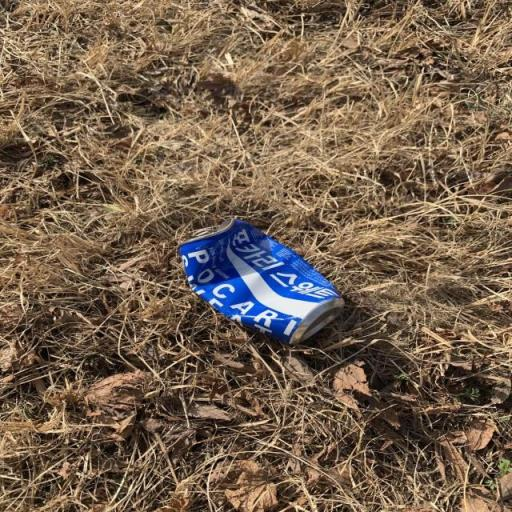metal: (158, 202, 364, 366)
